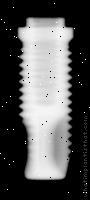Nobel Biocare: (16, 17, 78, 181)
